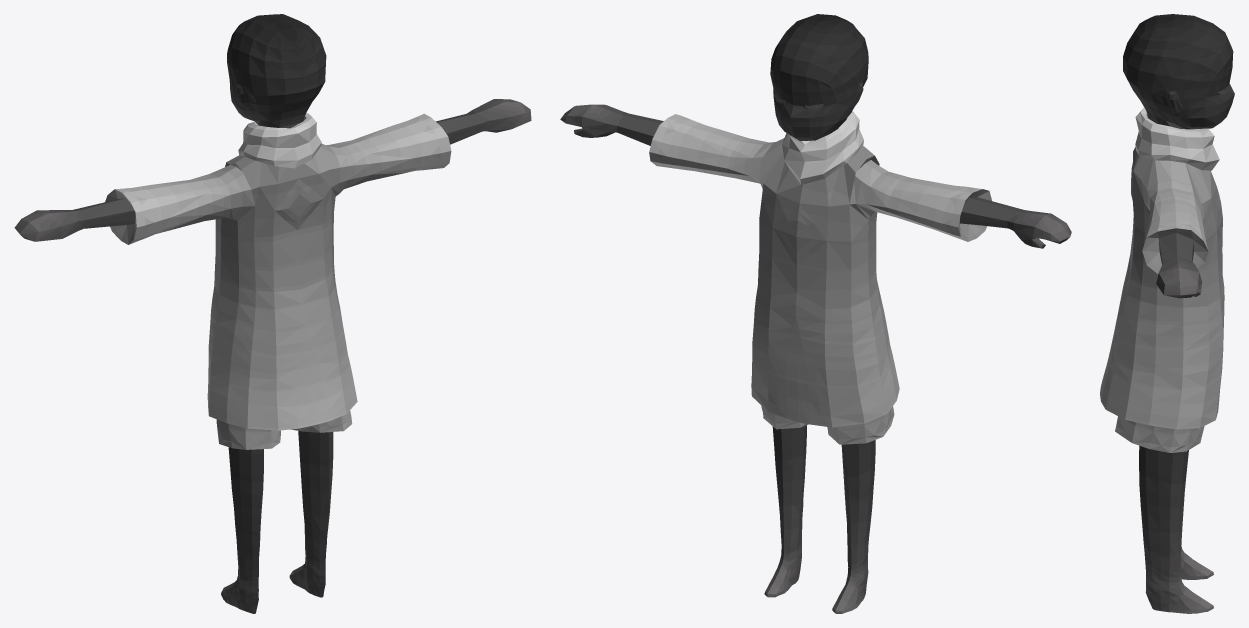
The model's file is CharSkyKid_Body_AP24Invisible.glb.
3 renders of one model, left to right at view 1: azimuth 30°, elevation 25°; view 2: azimuth 150°, elevation 25°; view 3: azimuth 270°, elevation 25°, orthographic.
Parts seen in each view (by area): view 1: CharSkyKid_Body_AP24Invisible; view 2: CharSkyKid_Body_AP24Invisible; view 3: CharSkyKid_Body_AP24Invisible.
Boxes of the visible parts, bbox=[...] form: CharSkyKid_Body_AP24Invisible: bbox=[14, 14, 531, 613]; CharSkyKid_Body_AP24Invisible: bbox=[560, 14, 1071, 613]; CharSkyKid_Body_AP24Invisible: bbox=[1100, 14, 1234, 613].
Size of the model in its own units: 13.83 by 14.94 by 3.18.
Materials: 1 (1 with a texture image).
